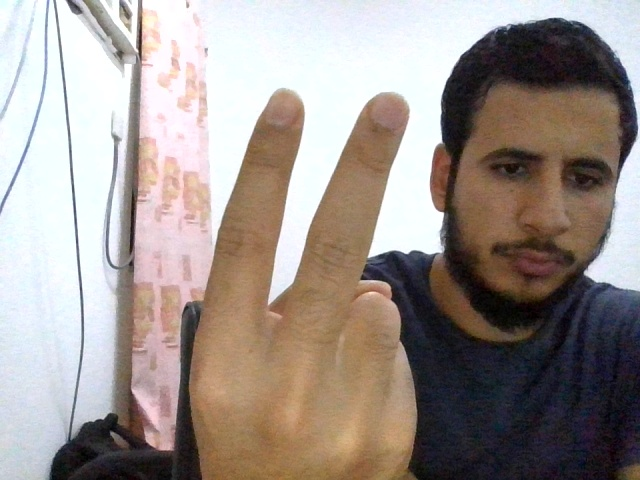Two: (191, 87, 417, 480)
